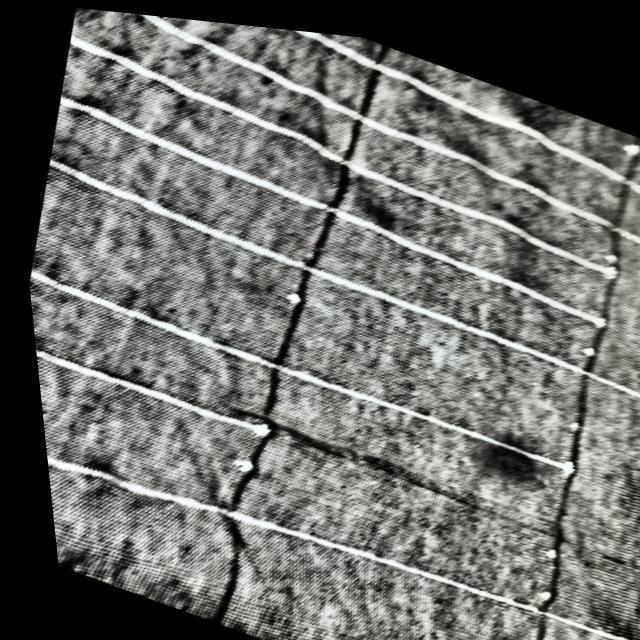Hole: (456, 410, 547, 485), (268, 277, 327, 327), (218, 449, 257, 480), (551, 397, 585, 429), (527, 530, 556, 563), (568, 326, 601, 350), (613, 119, 640, 148), (590, 230, 621, 255), (524, 572, 548, 595), (494, 635, 533, 640)
Stitch: (34, 142, 640, 408), (61, 5, 640, 266), (55, 21, 633, 275), (44, 82, 621, 330), (22, 264, 573, 478), (172, 14, 640, 203), (27, 327, 275, 443)
